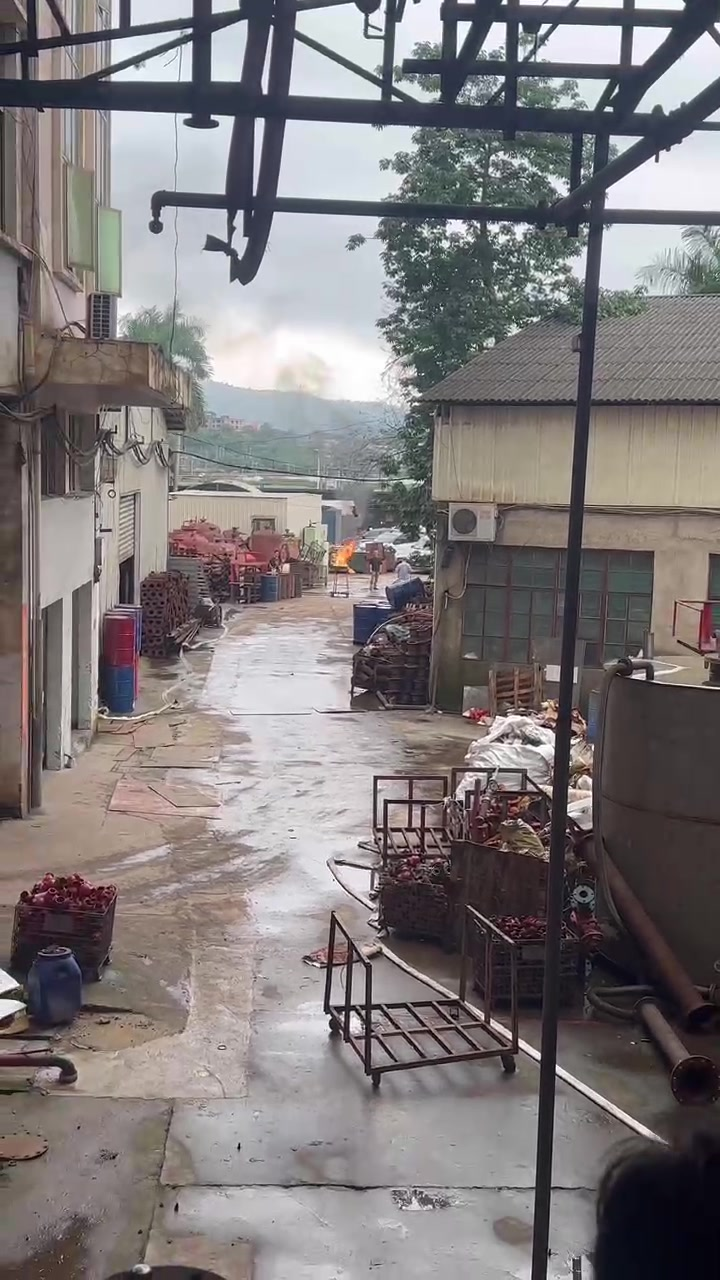fire: (330, 538, 354, 572)
